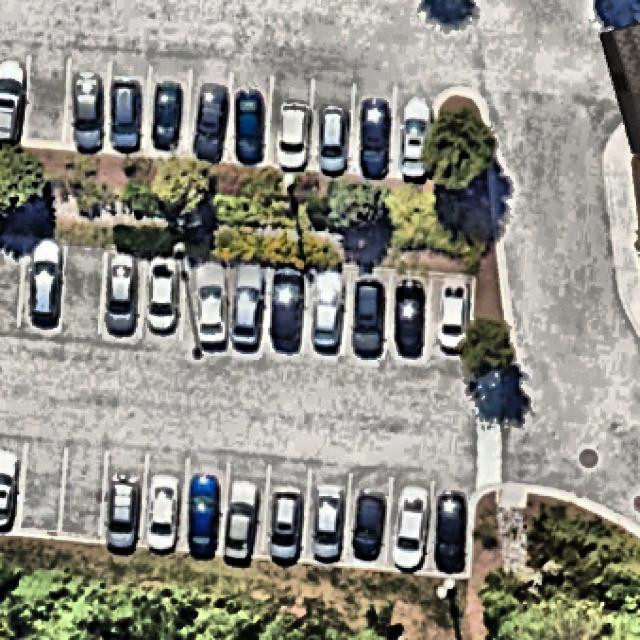Car: (190, 260, 230, 353), (350, 274, 390, 362), (433, 490, 471, 581), (392, 276, 430, 366), (357, 96, 396, 183), (190, 79, 227, 167), (399, 96, 436, 184), (268, 268, 305, 356), (27, 238, 63, 328), (395, 485, 431, 575), (268, 482, 304, 568), (312, 482, 348, 568), (185, 471, 219, 561), (232, 88, 270, 168), (109, 74, 145, 156), (225, 476, 258, 565), (232, 264, 264, 353), (72, 70, 105, 156), (314, 270, 347, 354), (109, 250, 140, 338), (151, 73, 183, 158), (438, 279, 473, 355), (275, 101, 310, 176), (352, 486, 385, 565), (150, 474, 181, 556), (110, 471, 140, 555), (148, 255, 179, 334), (0, 53, 25, 150), (320, 101, 350, 179), (0, 449, 19, 534)
Empty: (64, 443, 108, 544), (27, 55, 70, 151), (63, 242, 104, 340), (23, 446, 65, 540), (0, 236, 23, 330)
